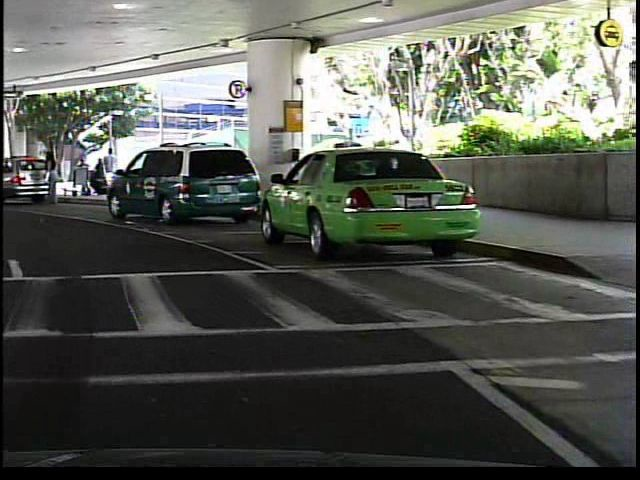person: (41, 152, 60, 206)
